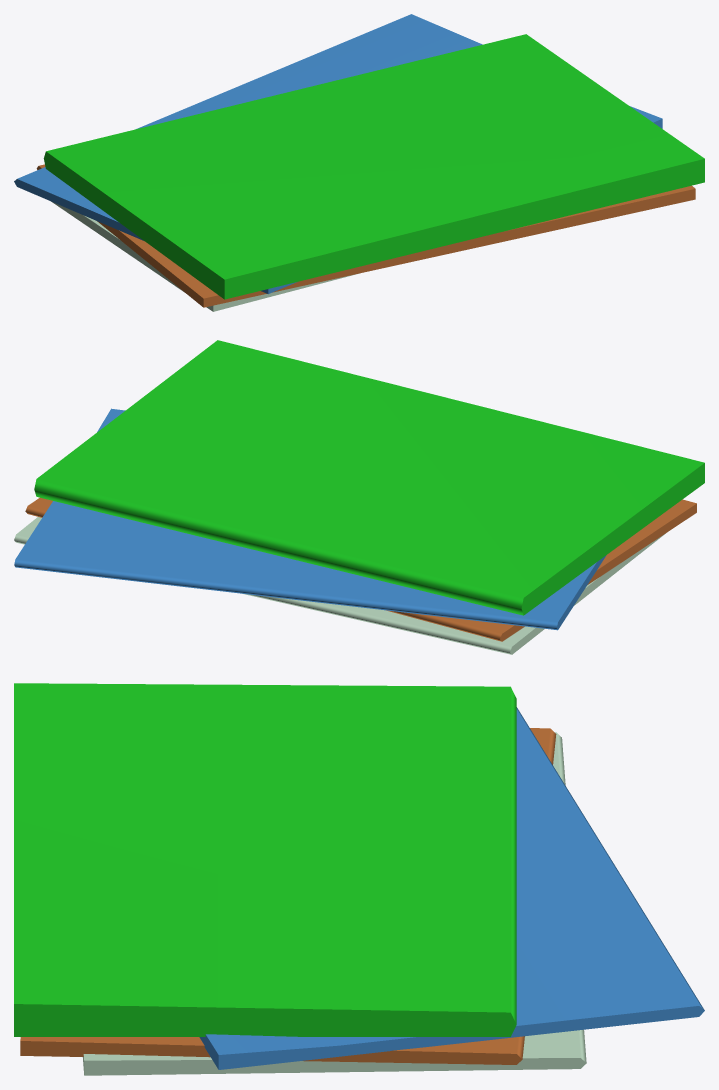
The model's file is SM_Magazine.fbx.
3 views of the same model, one above another, from view 1: azimuth 30°, elevation 25°; view 2: azimuth 150°, elevation 25°; view 3: azimuth 270°, elevation 25° (orthographic). The views are drawn at different scales.
Visible parts, largest first — view 1: SM_Magazine; view 2: SM_Magazine; view 3: SM_Magazine.
Boxes of the visible parts, x1,y1,x2,y2 form: SM_Magazine: (14, 14, 704, 311); SM_Magazine: (14, 340, 704, 654); SM_Magazine: (14, 683, 704, 1075).
Size of the model in its own units: 29.69 by 23.49 by 2.57.
Materials: 1 (1 with a texture image).
